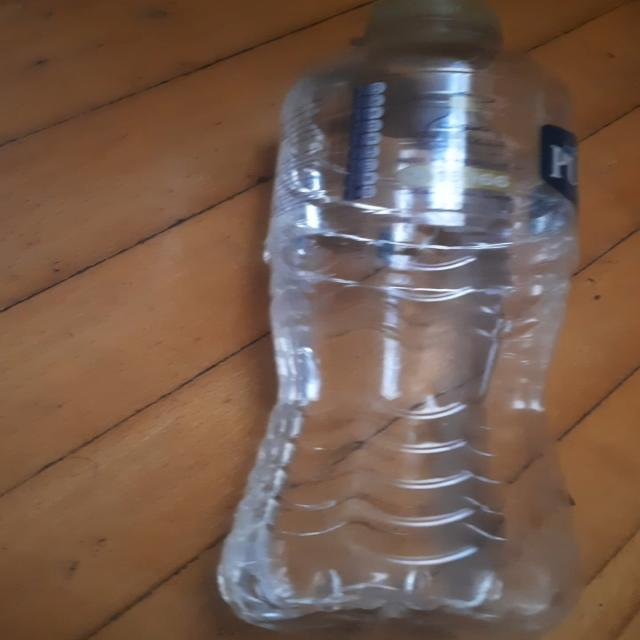Plastic: (215, 0, 583, 640)
